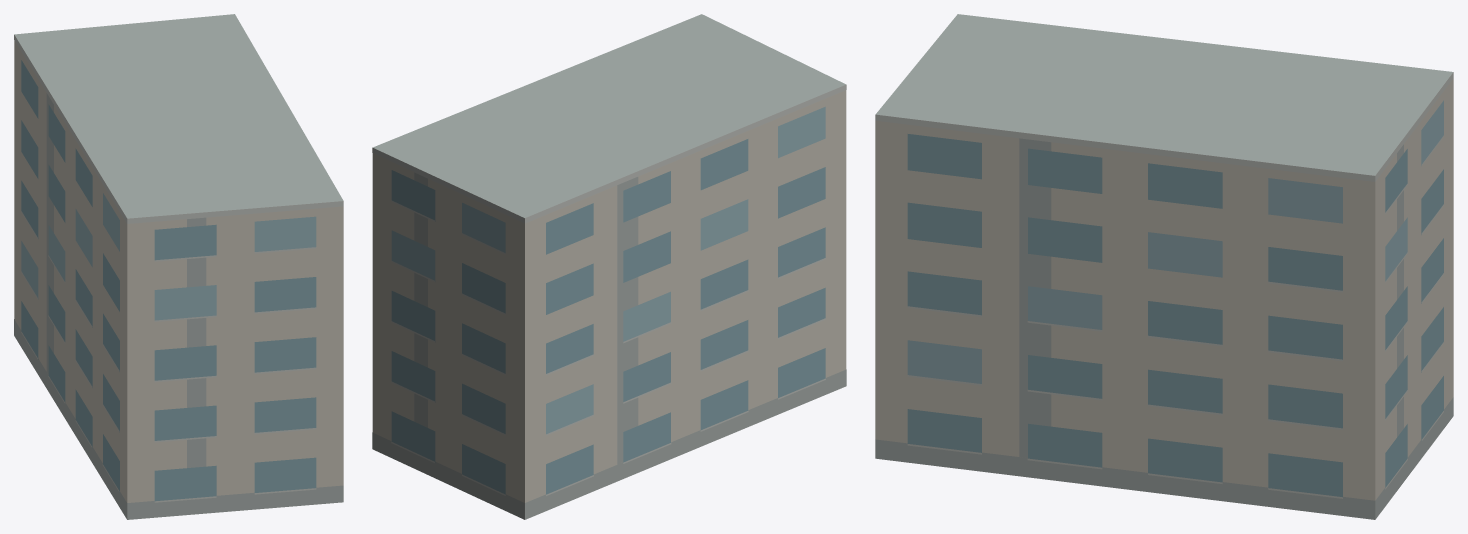
File: survey-upis-32958980.glb
3 renders of one model, left to right at view 1: azimuth 30°, elevation 25°; view 2: azimuth 150°, elevation 25°; view 3: azimuth 270°, elevation 25°, orthographic. The views are drawn at different scales.
Visible parts, largest first — view 1: survey-upis-32958980.tmp; view 2: survey-upis-32958980.tmp; view 3: survey-upis-32958980.tmp.
Part boxes in pixels (box(x1,y1,x2,y2)): survey-upis-32958980.tmp: box(14, 14, 343, 519); survey-upis-32958980.tmp: box(372, 14, 846, 519); survey-upis-32958980.tmp: box(875, 14, 1453, 519).
Bounding box in the file's own units: 13.78 × 13.65 × 20.8.
